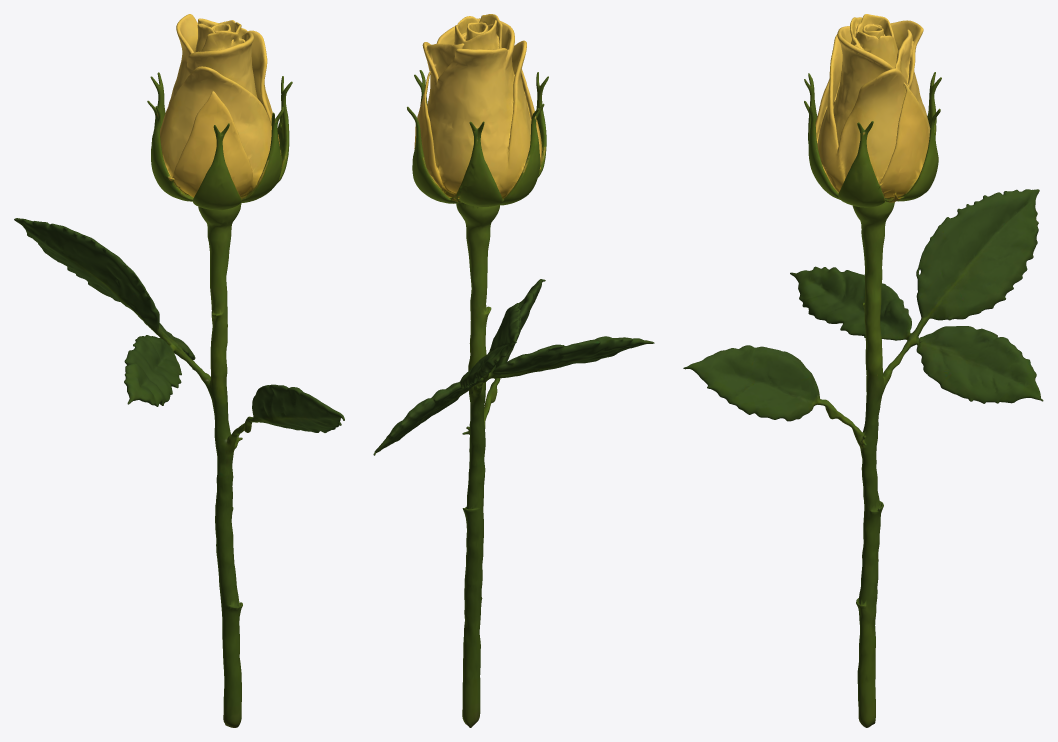
The model's file is YellowRose.glb.
3 renders of one model, left to right at view 1: azimuth 30°, elevation 25°; view 2: azimuth 150°, elevation 25°; view 3: azimuth 270°, elevation 25°, orthographic.
Parts seen in each view (by area): view 1: tripo_node_4ea5bd41-6db2-41bf-bce9-83857ccb6344; view 2: tripo_node_4ea5bd41-6db2-41bf-bce9-83857ccb6344; view 3: tripo_node_4ea5bd41-6db2-41bf-bce9-83857ccb6344.
Part boxes in pixels (box(x1,y1,x2,y2)): tripo_node_4ea5bd41-6db2-41bf-bce9-83857ccb6344: box(14, 14, 344, 727); tripo_node_4ea5bd41-6db2-41bf-bce9-83857ccb6344: box(373, 14, 654, 727); tripo_node_4ea5bd41-6db2-41bf-bce9-83857ccb6344: box(683, 14, 1043, 727).
Bounding box in the file's own units: 0.2949 × 0.9999 × 0.4661.
Materials: 1 (1 with a texture image).
